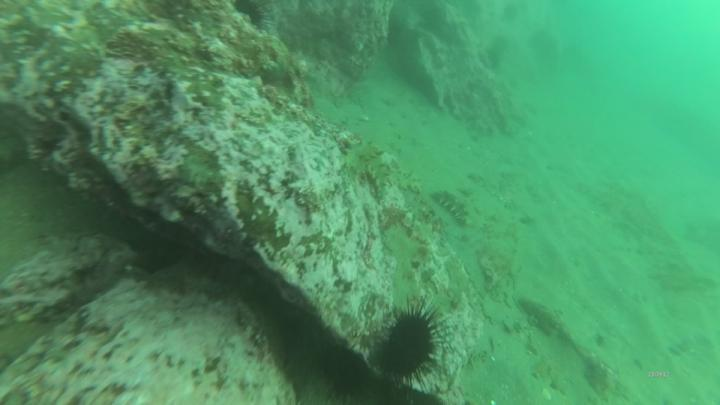echinus: (376, 294, 457, 396)
holothurian: (347, 140, 393, 200), (432, 189, 477, 231)
